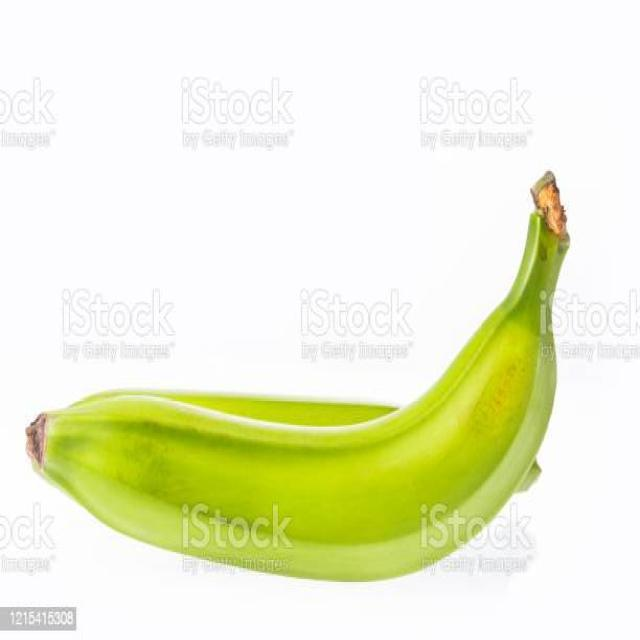non_orange: (29, 177, 570, 587)
